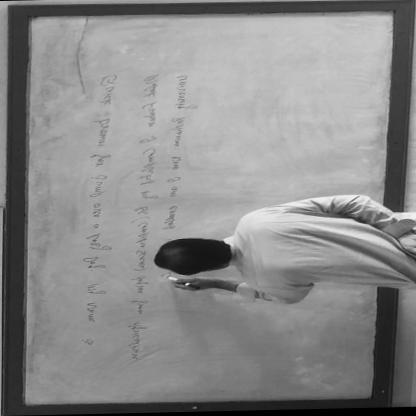Handwritten text: (124, 53, 163, 362), (79, 67, 121, 349), (161, 58, 199, 232)
Lecturer: (151, 183, 412, 327)
Whiteboard: (19, 5, 409, 407)
